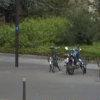Bicycle: (45, 42, 88, 78)
